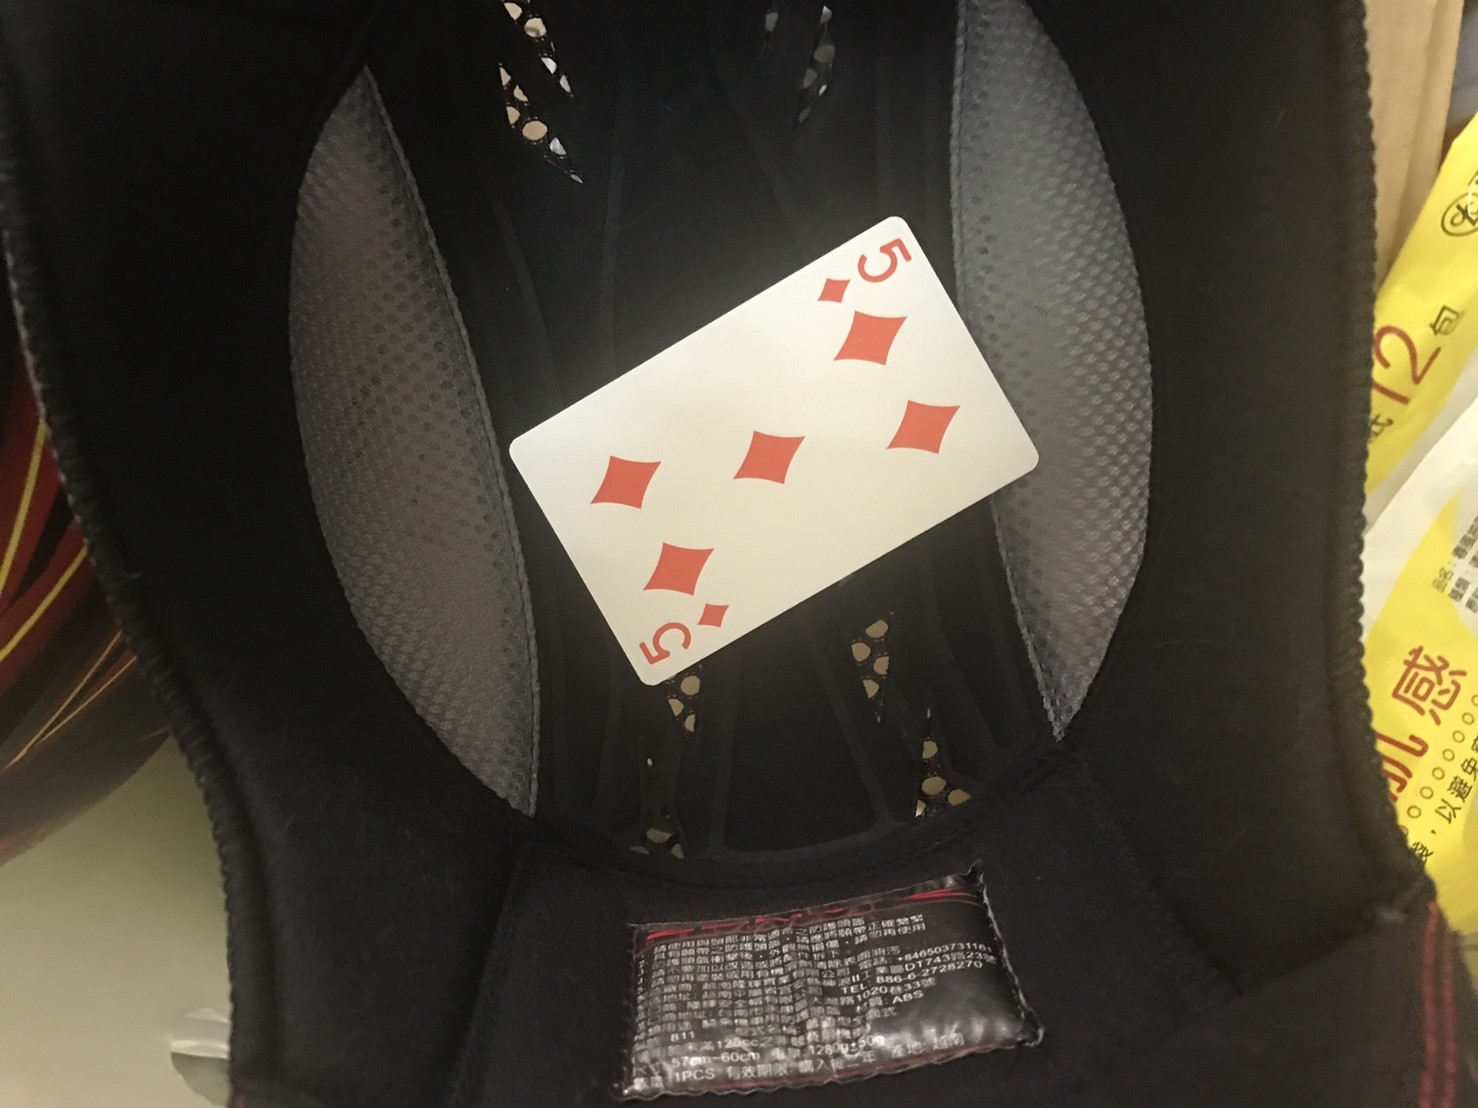diamonds: (832, 308, 907, 370), (884, 396, 959, 456), (731, 427, 804, 488), (589, 454, 661, 514), (641, 537, 713, 596), (809, 275, 852, 306), (691, 603, 733, 633)
